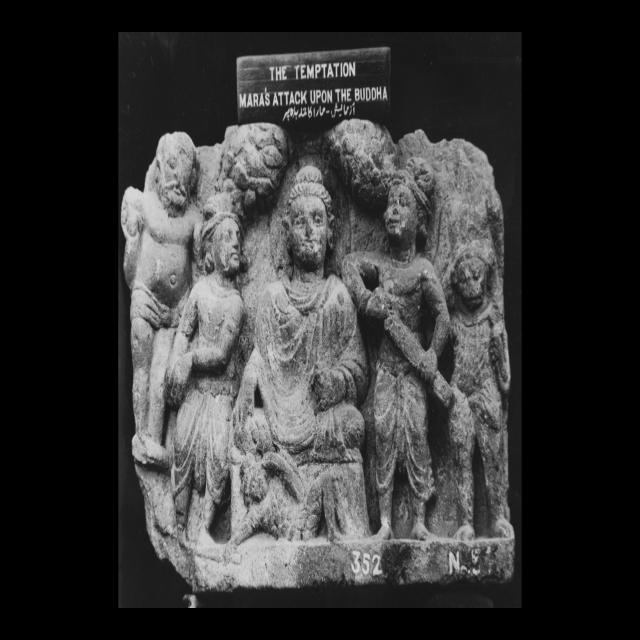buddha-sitting: (230, 160, 370, 549)
